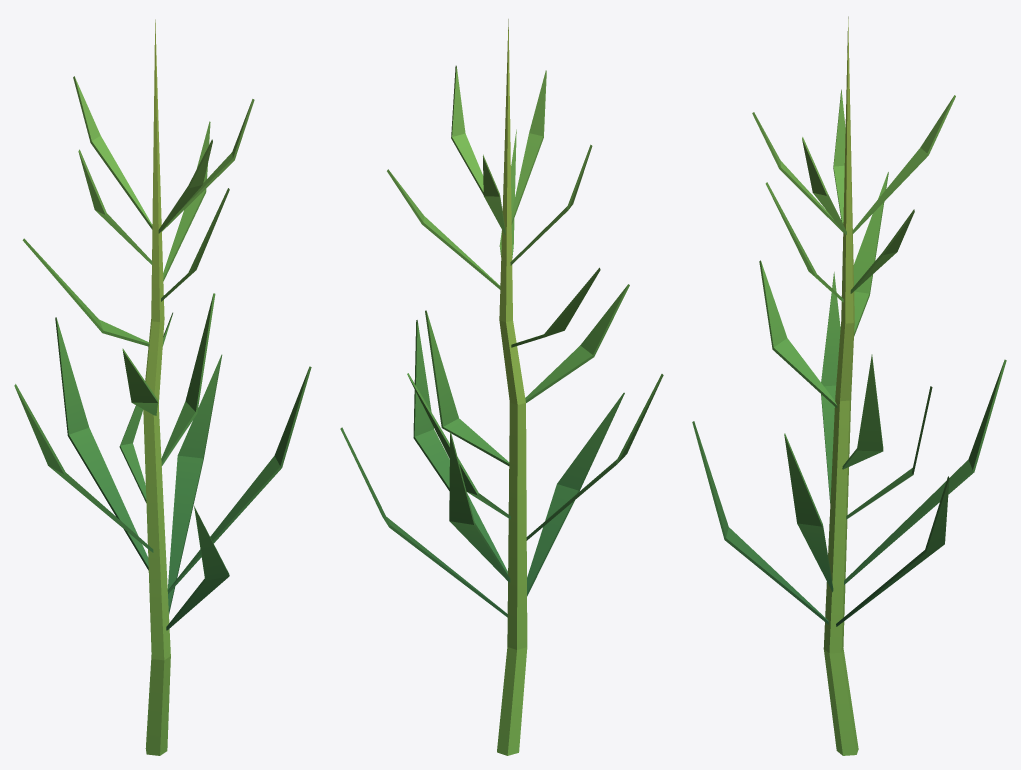
The model's file is Plant_2.fbx.
3 renders of one model, left to right at view 1: azimuth 30°, elevation 25°; view 2: azimuth 150°, elevation 25°; view 3: azimuth 270°, elevation 25°, orthographic.
Parts seen in each view (by area): view 1: Plant_2; view 2: Plant_2; view 3: Plant_2.
Part boxes in pixels (x1,y1,x2,y2): Plant_2: (14,19,311,755); Plant_2: (340,19,663,755); Plant_2: (692,16,1006,755).
Size of the model in its own units: 0.6859 by 1.77 by 0.6859.
